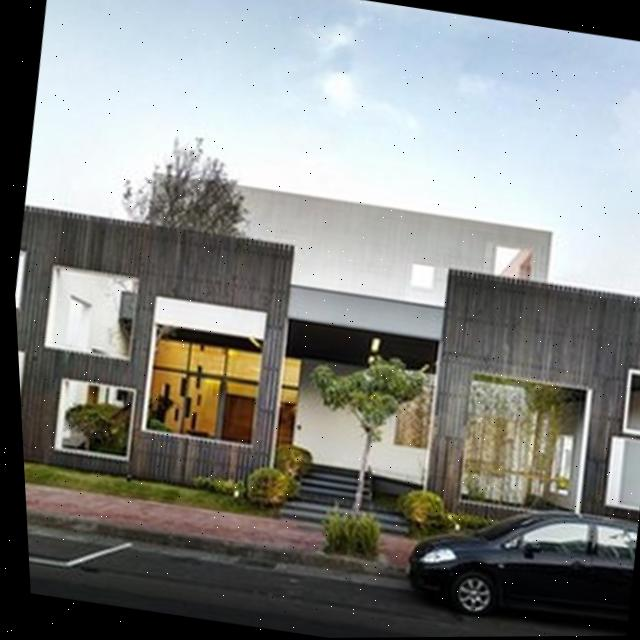building: (8, 145, 640, 570)
